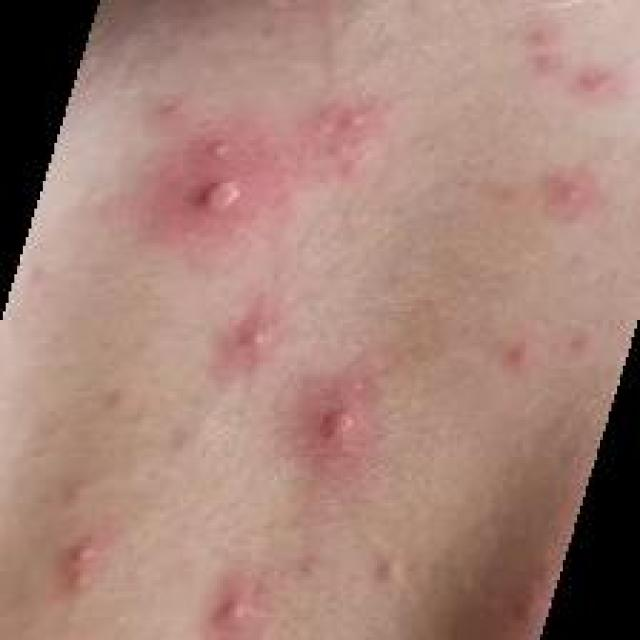others: (78, 44, 524, 640)
